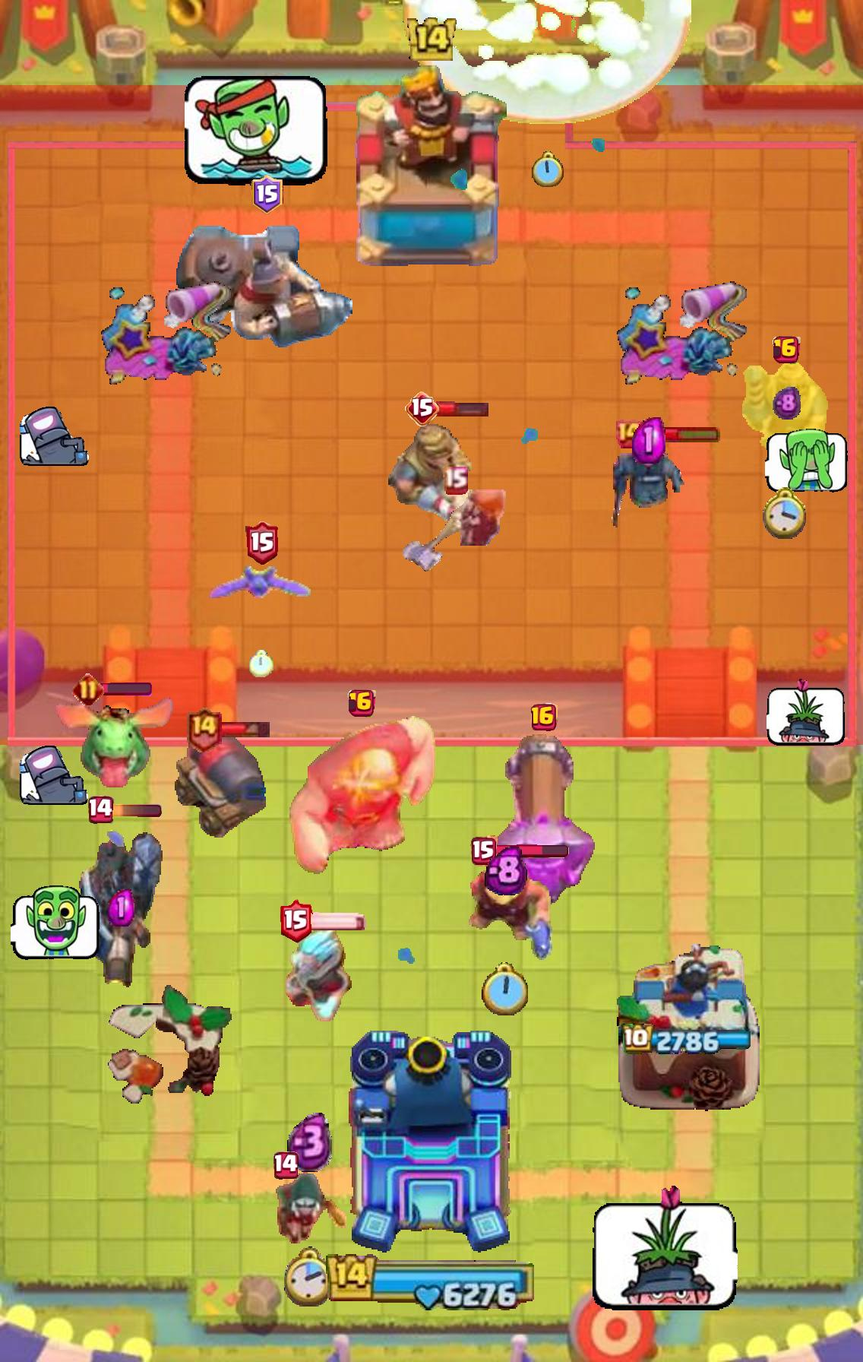elixir: (287, 1111, 333, 1172), (485, 844, 527, 895), (632, 418, 665, 464), (773, 385, 801, 421), (108, 889, 135, 926)
